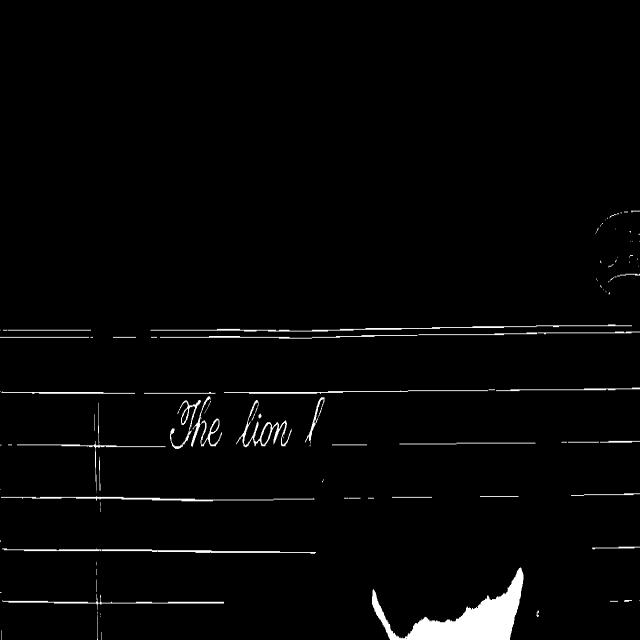hand: (372, 567, 523, 637)
noise: (150, 323, 640, 339), (222, 386, 640, 395), (0, 493, 314, 503), (8, 430, 166, 449), (2, 596, 224, 605), (0, 547, 315, 553), (0, 328, 94, 339), (0, 389, 136, 394), (398, 443, 537, 447), (570, 491, 640, 498), (142, 390, 217, 396), (560, 440, 640, 444), (590, 544, 640, 550), (479, 492, 520, 498), (380, 495, 432, 499), (332, 443, 370, 446), (344, 498, 378, 500), (624, 598, 632, 601)
not-noise: (235, 399, 292, 448), (171, 396, 223, 449), (304, 396, 325, 443)
page-marker: (595, 211, 640, 293)
